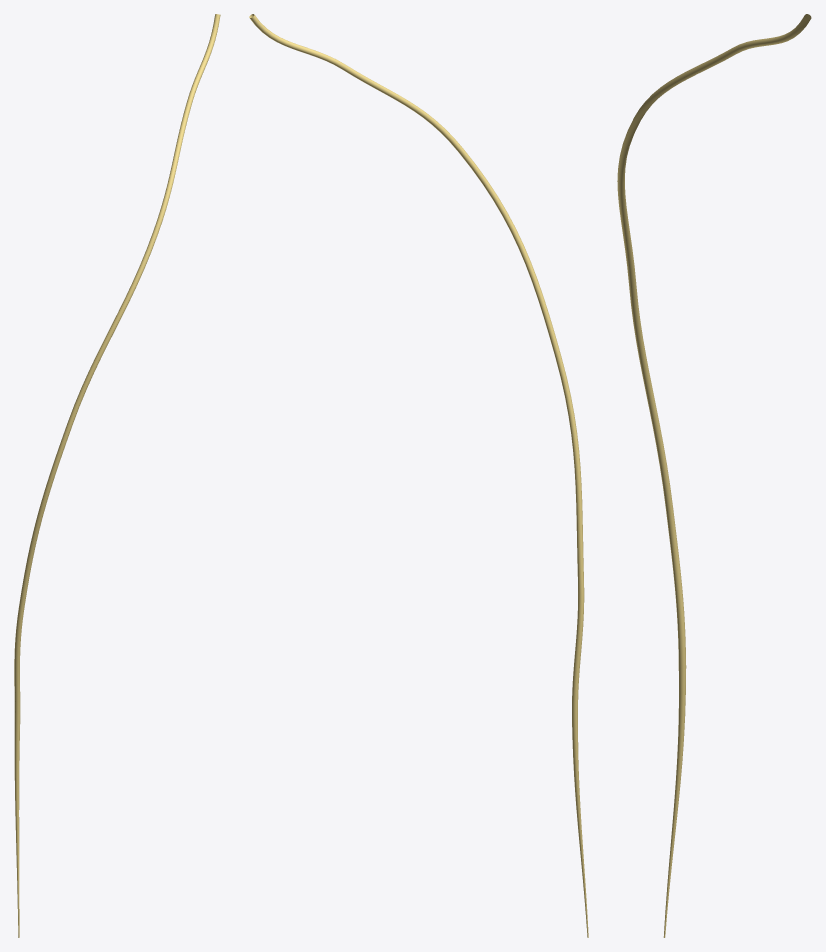
The picture shows the model from 3 angles, left to right: view 1: azimuth 30°, elevation 25°; view 2: azimuth 150°, elevation 25°; view 3: azimuth 270°, elevation 25°; orthographic projection. The views are drawn at different scales.
Visible parts, largest first — view 1: ZA_d77db8d0ec2a7c9e; view 2: ZA_d77db8d0ec2a7c9e; view 3: ZA_d77db8d0ec2a7c9e.
Part boxes in pixels (box(x1,y1,x2,y2)): ZA_d77db8d0ec2a7c9e: box(14, 14, 220, 937); ZA_d77db8d0ec2a7c9e: box(249, 14, 588, 937); ZA_d77db8d0ec2a7c9e: box(617, 14, 811, 937).
Size of the model in its own units: 0.0528 by 0.162 by 0.0262.
